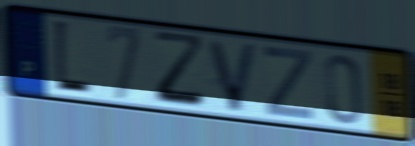0: (322, 52, 364, 126)
7: (105, 22, 147, 104)
L: (51, 16, 94, 99)
V: (205, 36, 262, 115)
Z: (151, 28, 209, 113), (262, 44, 315, 123)
